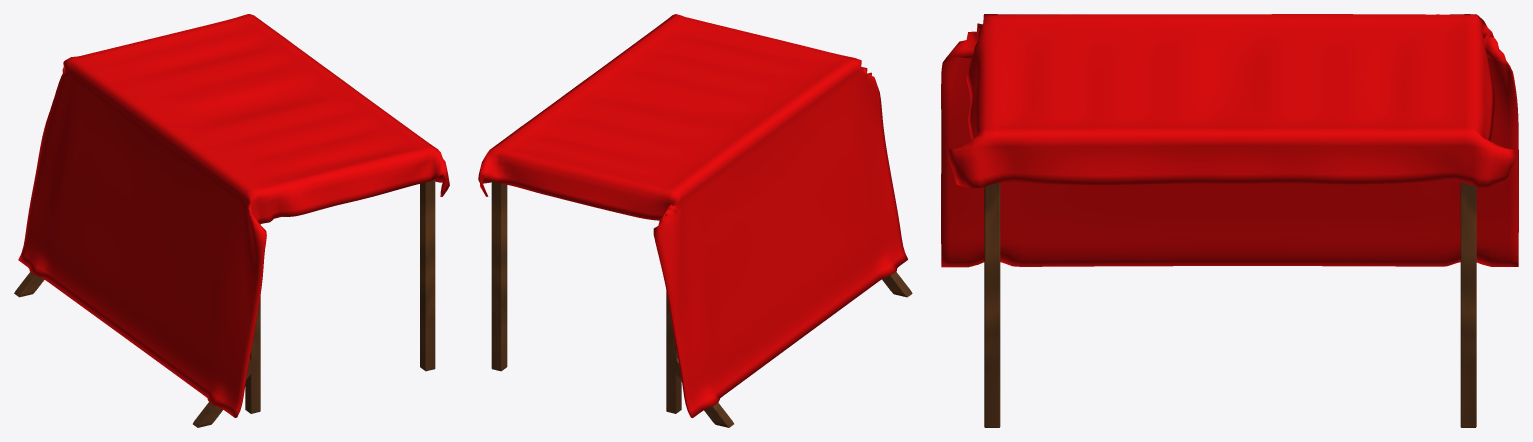
Rendered from Canopy01.glb.
The picture shows the model from 3 angles, left to right: view 1: azimuth 30°, elevation 25°; view 2: azimuth 150°, elevation 25°; view 3: azimuth 270°, elevation 25°; orthographic projection. The views are drawn at different scales.
Visible parts, largest first — view 1: canopy1; view 2: canopy1; view 3: canopy1.
Boxes of the visible parts, x1,y1,x2,y2 form: canopy1: (14, 14, 449, 427); canopy1: (478, 14, 912, 427); canopy1: (941, 14, 1518, 427).
Bounding box in the file's own units: 7.32 × 6.31 × 11.08.
Materials: 2 (1 with a texture image).
